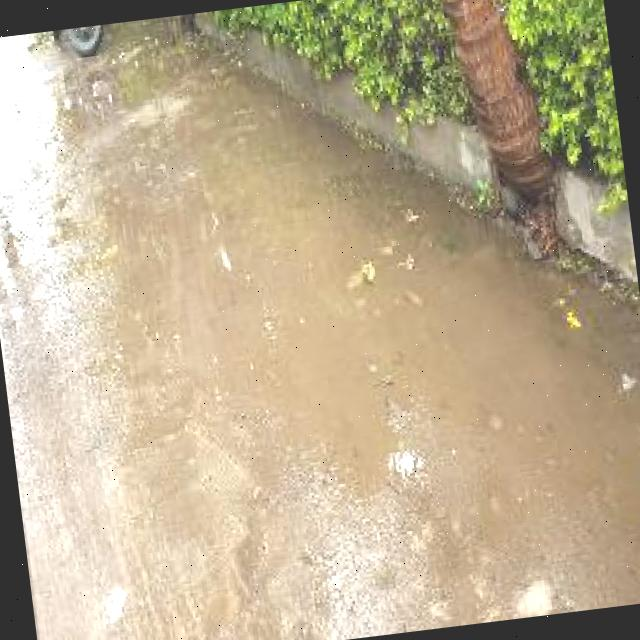waterlogging: (244, 242, 411, 506)
